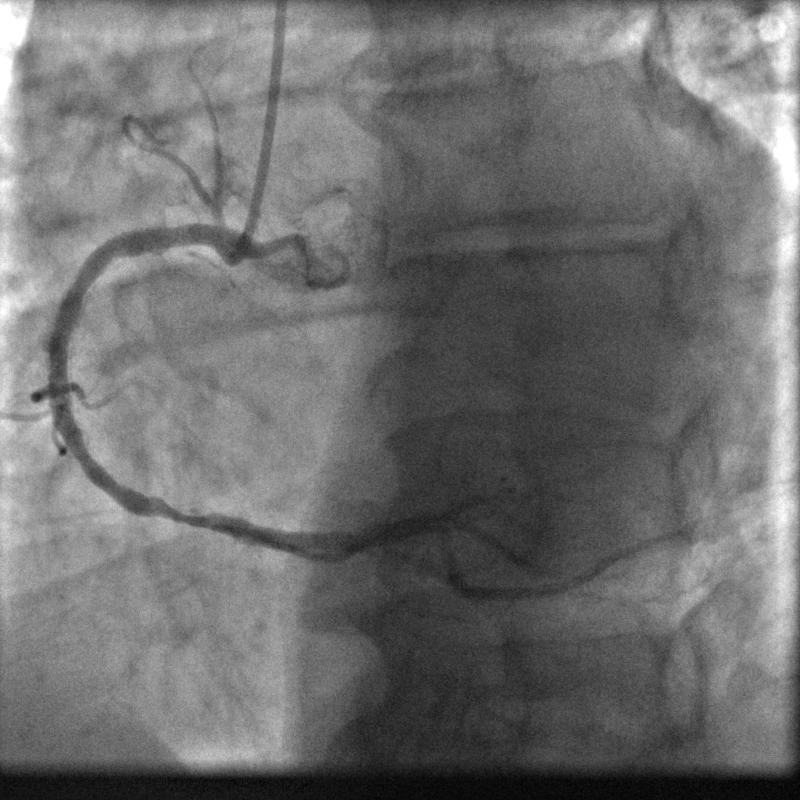Stenosis: (139, 494, 215, 532)
